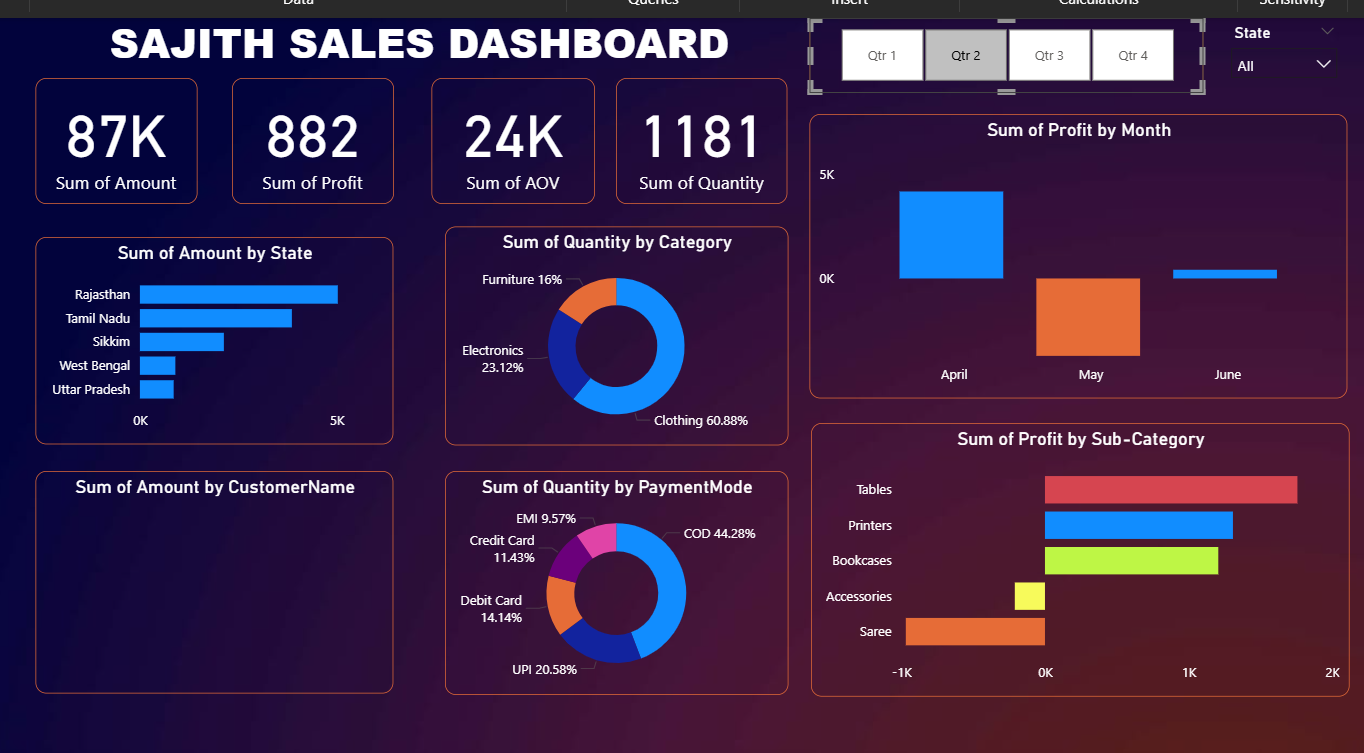

The dashboard page shown, as its layout file describes it:
{"tool":"powerbi","page":{"name":"Page 1","canvas":[1280,720],"ordinal":0},"visuals":[{"type":"clusteredBarChart","fields":{"Y":["Sum(Details.Profit)"],"Category":["Details.Sub-Category"]},"box":[757.8,413.9,498.9,253.2],"z":0},{"type":"donutChart","fields":{"Category":["Details.PaymentMode"],"Y":["Sum(Details.Quantity)"]},"box":[419.4,458.8,318,207.4],"z":1000},{"type":"columnChart","fields":{"Y":["Sum(Details.Profit)"],"Category":["Orders.Order Date.Variation.Date Hierarchy.Month"]},"box":[757.1,127.2,498.2,263.5],"z":2000},{"type":"donutChart","fields":{"Category":["Details.Category"],"Y":["Sum(Details.Quantity)"]},"box":[419.4,231.7,318,202.9],"z":3000},{"type":"columnChart","fields":{"Y":["Sum(Details.Amount)"],"Category":["Orders.CustomerName"]},"box":[40.9,458.8,331.6,205.9],"z":4000},{"type":"barChart","fields":{"Category":["Orders.State"],"Y":["Sum(Details.Amount)"]},"box":[40.9,242.3,331.6,192.3],"z":5000},{"type":"slicer","fields":{"Values":["Orders.Order Date.Variation.Date Hierarchy.Quarter"]},"box":[757.1,39.4,364.9,69.7],"z":6000},{"type":"card","fields":{"Values":["Sum(Details.Amount)"]},"box":[40.9,93.9,149.9,116.6],"z":7000},{"type":"card","fields":{"Values":["Sum(Details.Quantity)"]},"box":[578.4,93.9,159,116.6],"z":8000},{"type":"card","fields":{"Values":["Sum(Details.Profit)"]},"box":[222.6,93.9,149.9,116.6],"z":9000},{"type":"card","fields":{"Values":["Sum(Details.AOV)"]},"box":[407.3,93.9,151.4,116.6],"z":10000},{"type":"textbox","box":[92.4,28.8,605.7,65.1],"z":11000},{"type":"slicer","fields":{"Values":["Orders.State"]},"box":[1137.2,39.4,118.1,69.7],"z":12000}]}

Visuals, with their boxes on the page's 1280x720 design canvas (x1, y1, x2, y2). These are canvas units, not pixel positions in the 1364x753 screenshot, which may show the page scaled, cropped or inside an application window:
clusteredBarChart - Sum(Details.Profit) x Details.Sub-Category: crop(758, 414, 1257, 667)
donutChart - Details.PaymentMode x Sum(Details.Quantity): crop(419, 459, 737, 666)
columnChart - Sum(Details.Profit) x Orders.Order Date.Variation.Date Hierarchy.Month: crop(757, 127, 1255, 391)
donutChart - Details.Category x Sum(Details.Quantity): crop(419, 232, 737, 435)
columnChart - Sum(Details.Amount) x Orders.CustomerName: crop(41, 459, 372, 665)
barChart - Orders.State x Sum(Details.Amount): crop(41, 242, 372, 435)
slicer - Orders.Order Date.Variation.Date Hierarchy.Quarter: crop(757, 39, 1122, 109)
card - Sum(Details.Amount): crop(41, 94, 191, 210)
card - Sum(Details.Quantity): crop(578, 94, 737, 210)
card - Sum(Details.Profit): crop(223, 94, 372, 210)
card - Sum(Details.AOV): crop(407, 94, 559, 210)
textbox: crop(92, 29, 698, 94)
slicer - Orders.State: crop(1137, 39, 1255, 109)
